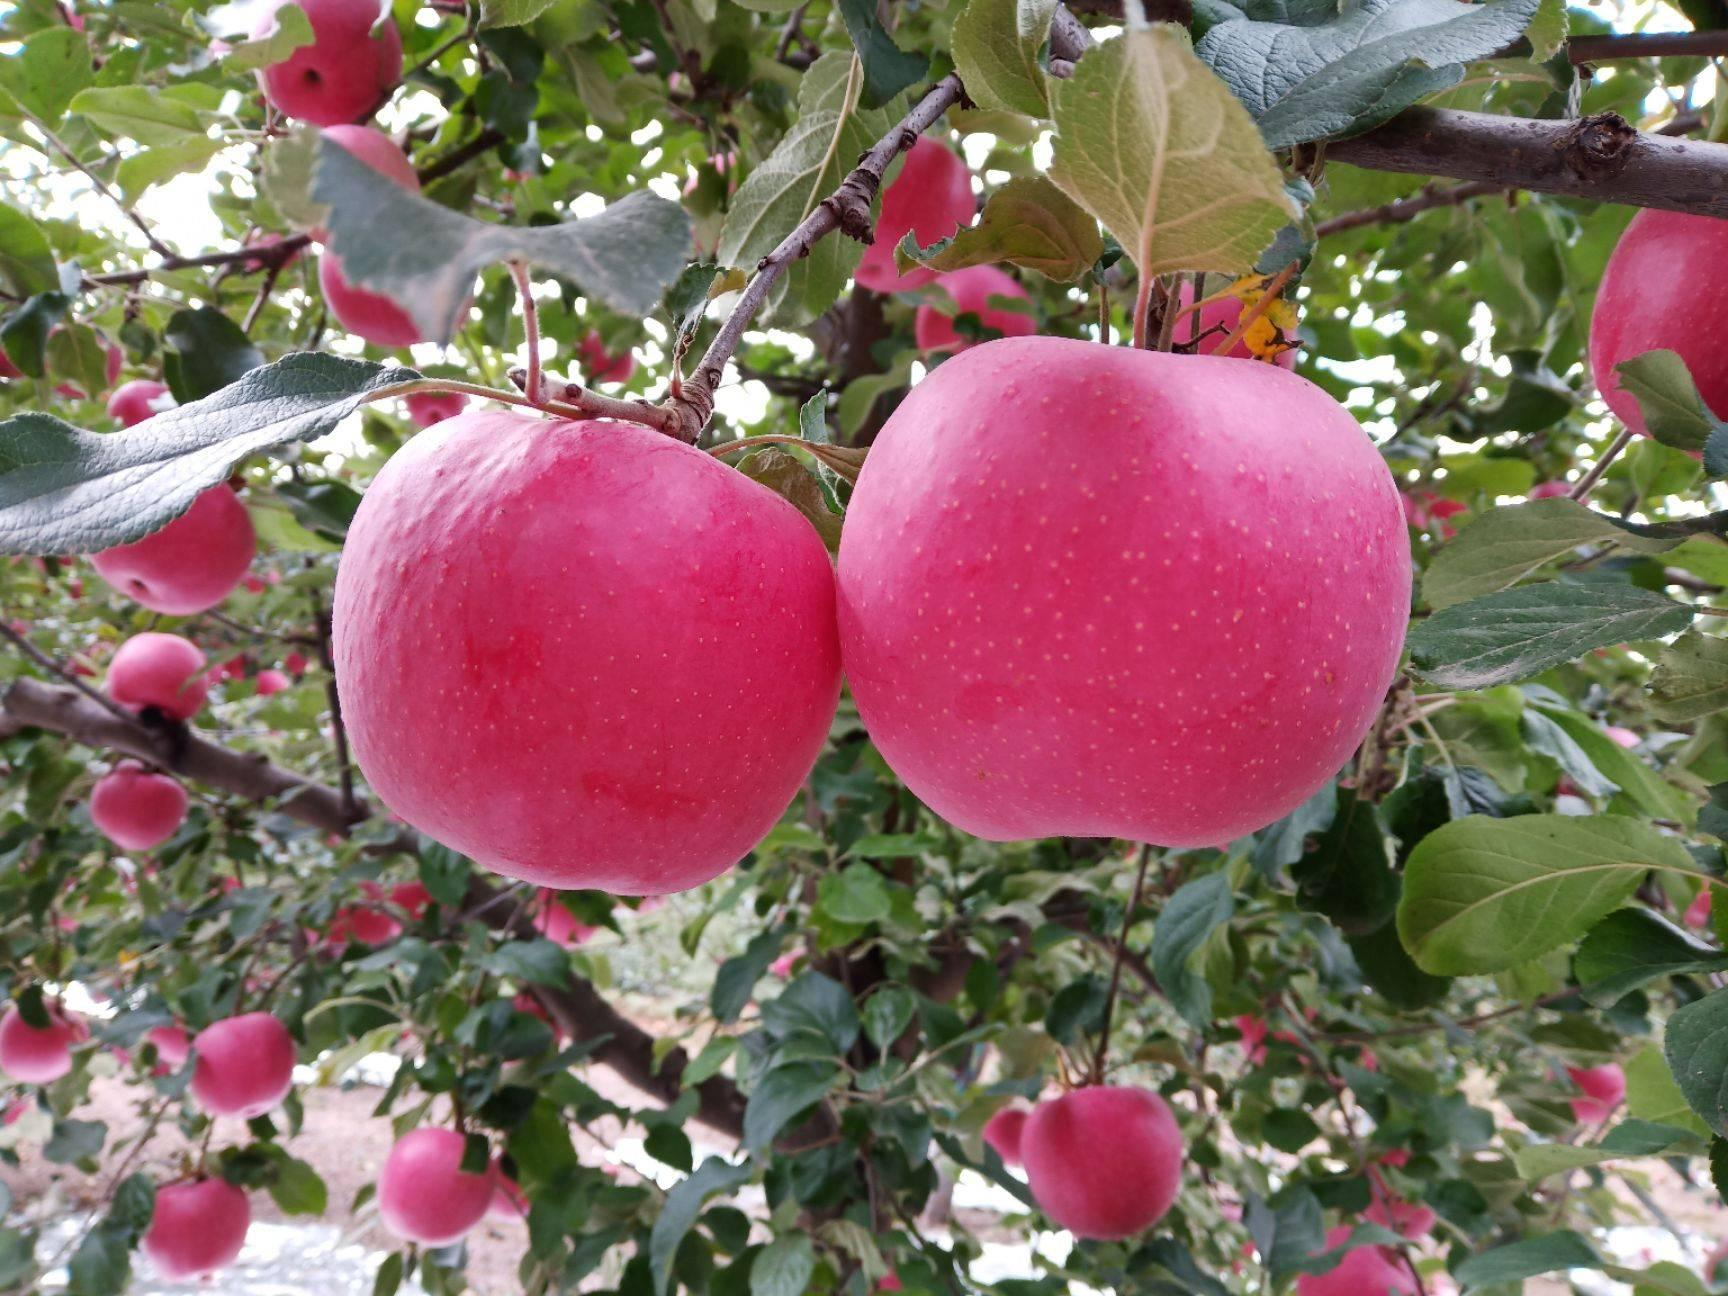apple: (829, 339, 1412, 844), (322, 421, 831, 903), (1584, 208, 1728, 447), (1006, 1084, 1197, 1239), (90, 483, 260, 619), (249, 5, 401, 127), (380, 1129, 497, 1248), (186, 1013, 297, 1124), (143, 1168, 253, 1280)
